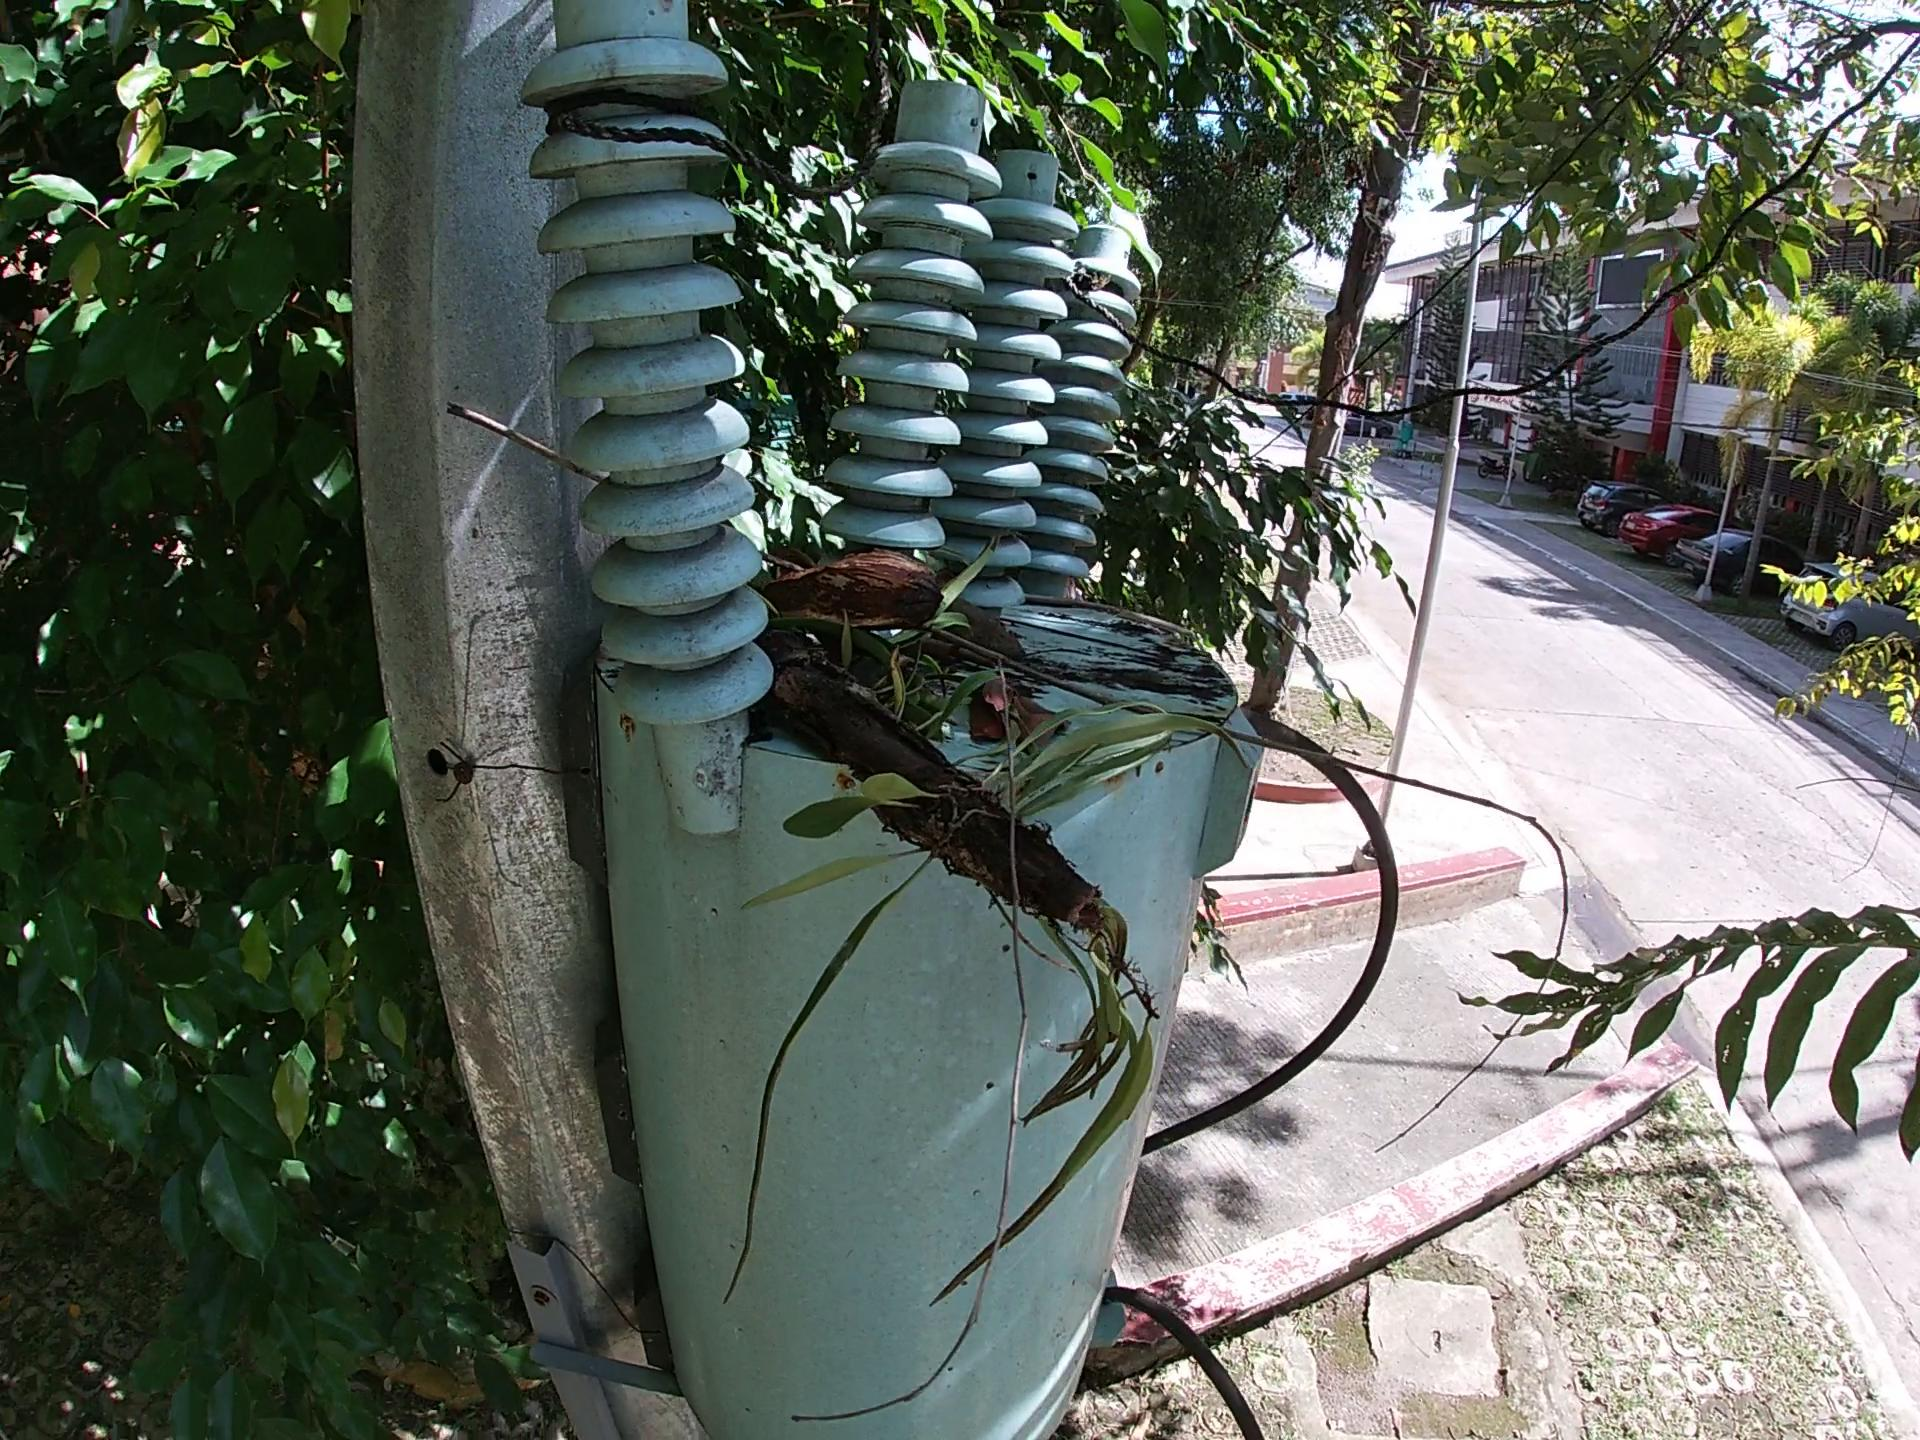branch with leaves: (768, 656, 1312, 951)
leaf: (838, 584, 1090, 755)
mahogany fruit: (777, 669, 839, 756)
tree branch: (438, 421, 1482, 821), (1008, 555, 1403, 717)
